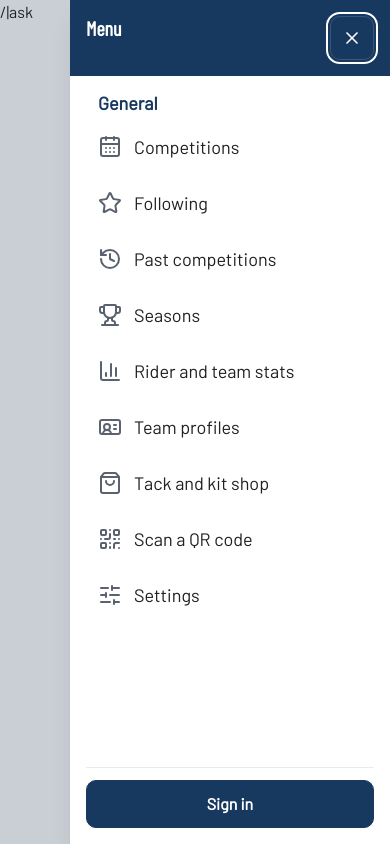
it: NavigationDrawer: permission scanner › opens and closes the scanner without dismissing or navigating the menu
This screenshot has width=390, height=844.
Step 1. Click the button "Scan a QR code" → [230, 538], box [86,510,374,566]
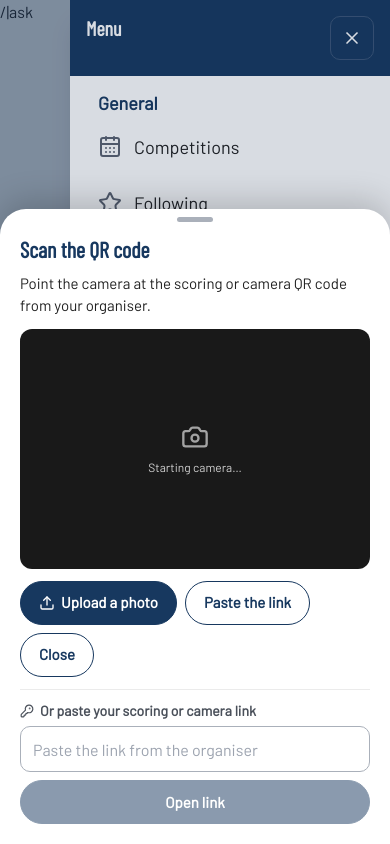
Now the dialog "Scan the QR code" is shown
Step 2. Click the button with aria-label "Close QR scanner" → [57, 655], box [20,633,94,677]
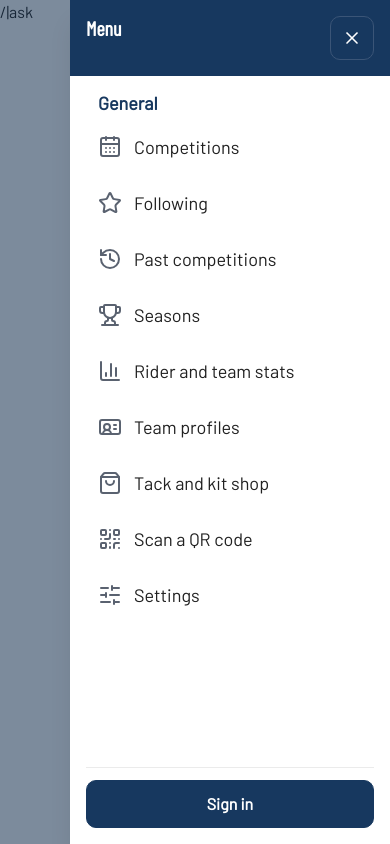
Expected: the text with test id "probe" shows "/|", [0,2,33,21]
Now the heading "Scan the QR code" is gone
